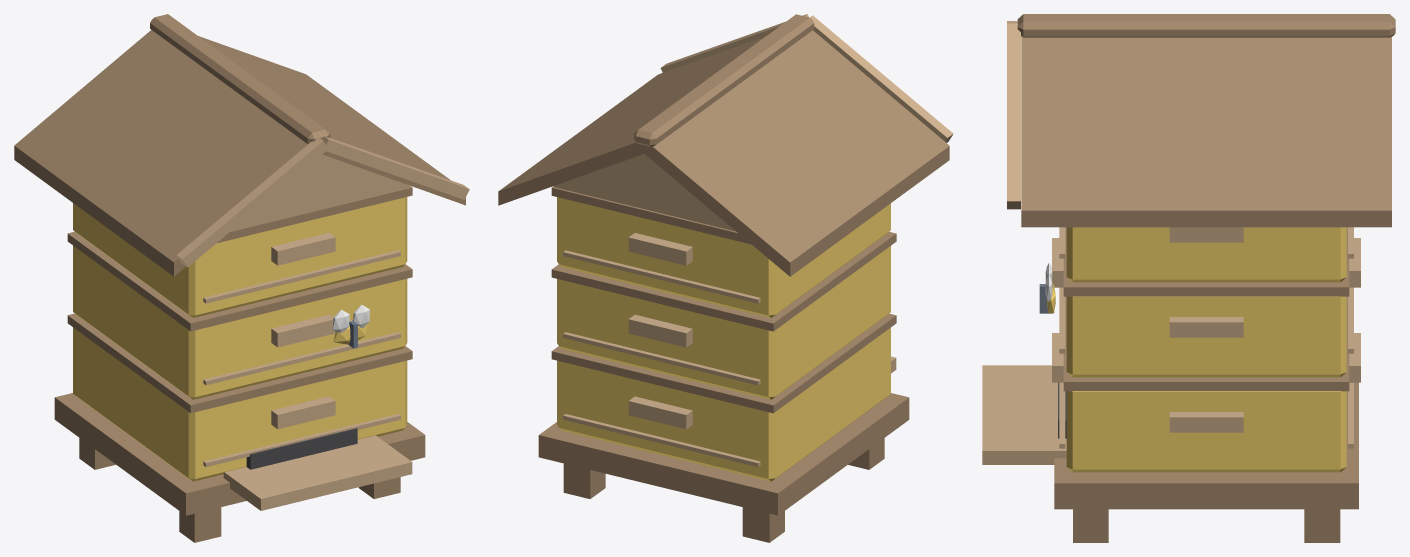
File: prop_beehive.glb
3 renders of one model, left to right at view 1: azimuth 30°, elevation 25°; view 2: azimuth 150°, elevation 25°; view 3: azimuth 270°, elevation 25°, orthographic. The views are drawn at different scales.
Visible parts, largest first — view 1: prop_beehive; view 2: prop_beehive; view 3: prop_beehive.
Part boxes in pixels (<box>): prop_beehive: <box>14,14,469,542</box>; prop_beehive: <box>498,14,953,542</box>; prop_beehive: <box>982,14,1395,542</box>.
Size of the model in its own units: 0.534 by 0.703 by 0.564.
